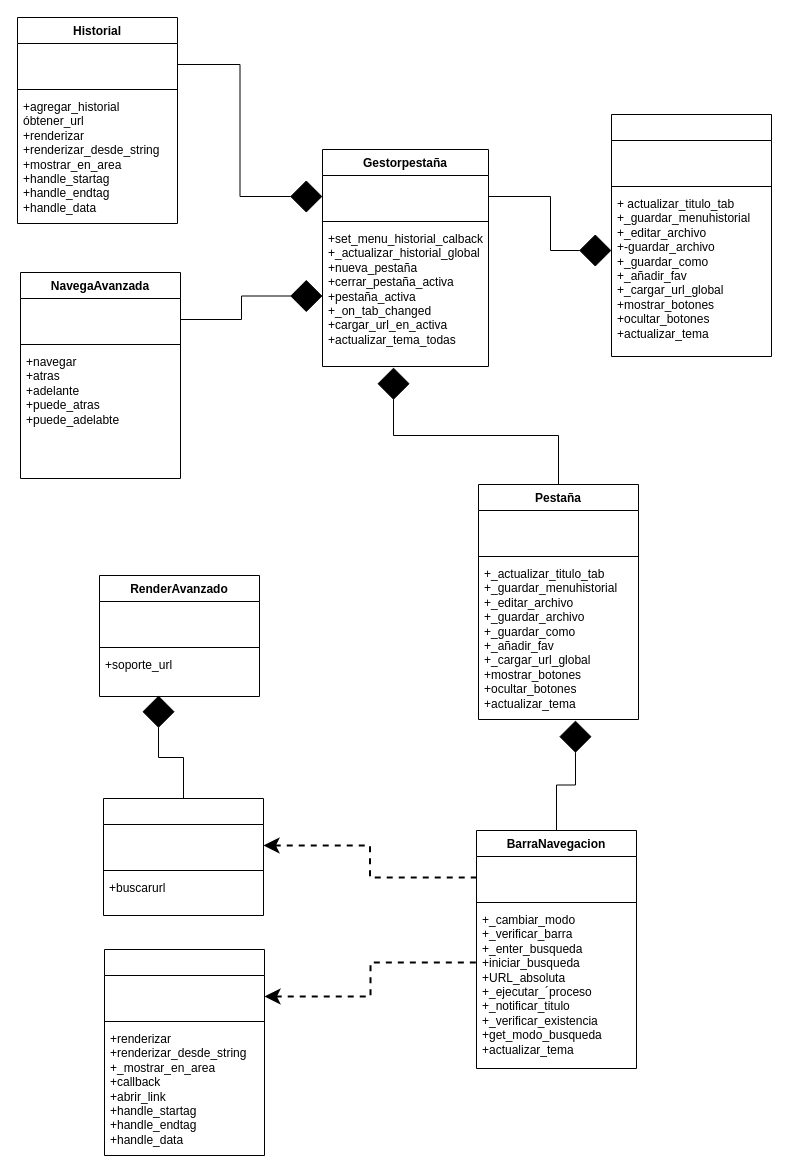
The diagram is 789 pixels wide and 1176 high, and some of its shapes have lost their labels. The box of each missing label's shape, as (x1, y1, x2, y2) in pixels:
ClienteHTTPS: (102, 798, 264, 916)
Renderizador: (104, 948, 264, 1156)
Ventana: (610, 114, 772, 356)
